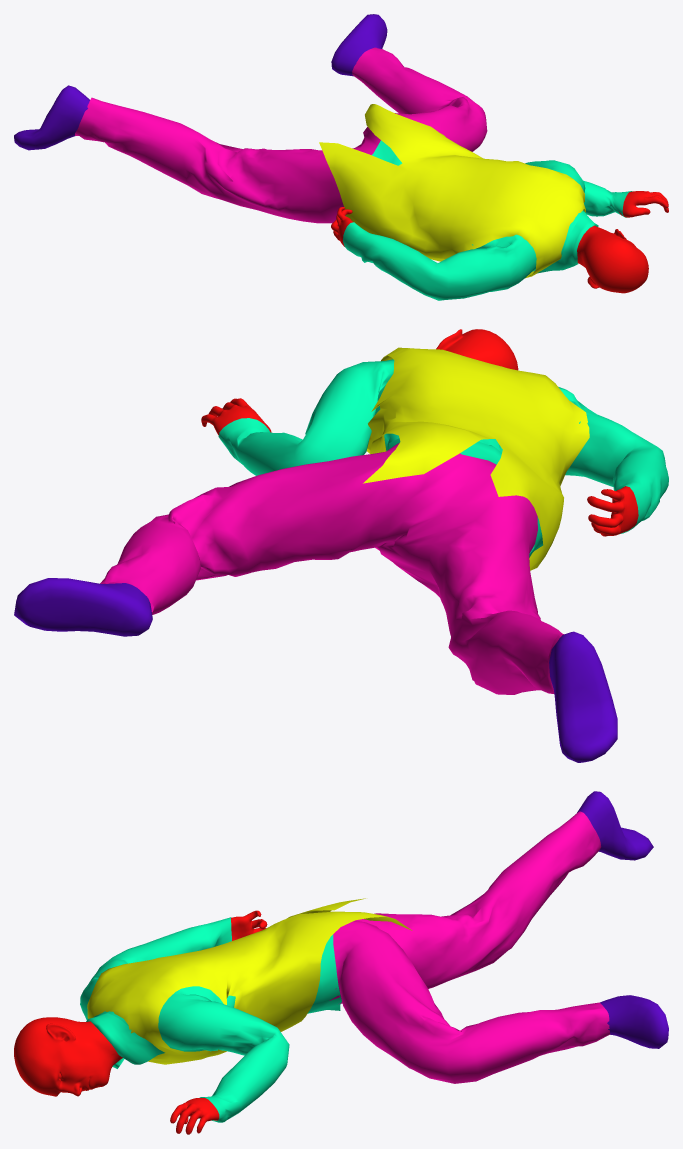
Rendered from 3d_Deadbody002.FBX.
The picture shows the model from 3 angles, top to bottom: view 1: azimuth 30°, elevation 25°; view 2: azimuth 150°, elevation 25°; view 3: azimuth 270°, elevation 25°; orthographic projection. The views are drawn at different scales.
Parts seen in each view (by area): view 1: Group34927; view 2: Group34927; view 3: Group34927.
Boxes of the visible parts, x1,y1,x2,y2 form: Group34927: (14,14,668,300); Group34927: (14,329,668,762); Group34927: (14,791,668,1134).
Bounding box in the file's own units: 149 × 35.04 × 160.
